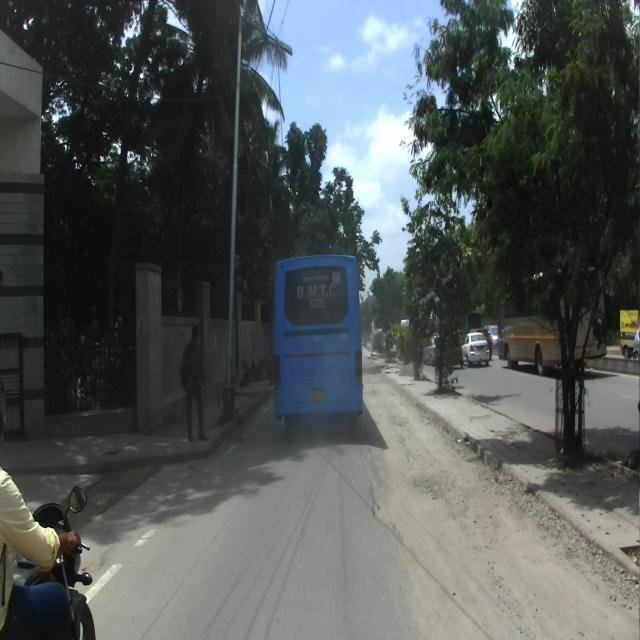bus: (496, 269, 606, 375)
car: (274, 254, 362, 420)
